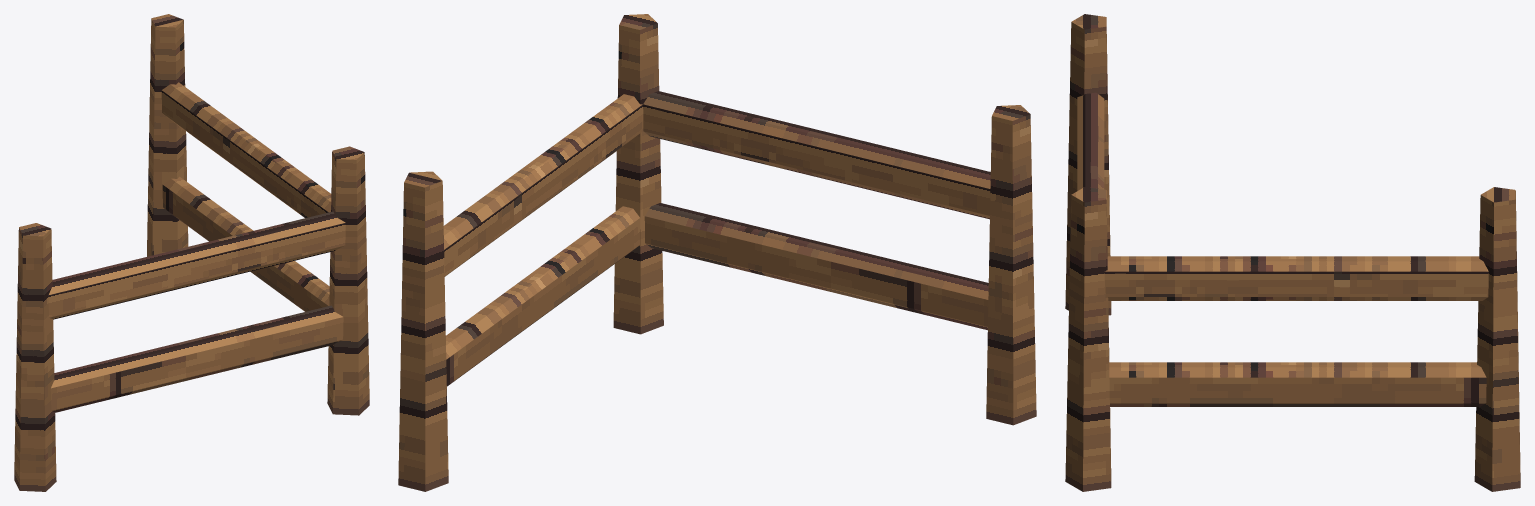
Rendered from enfeite_cerca_canto.fbx.
3 renders of one model, left to right at view 1: azimuth 30°, elevation 25°; view 2: azimuth 150°, elevation 25°; view 3: azimuth 270°, elevation 25°, orthographic. The views are drawn at different scales.
Parts seen in each view (by area): view 1: bosque_enfeite_cerca_canto; view 2: bosque_enfeite_cerca_canto; view 3: bosque_enfeite_cerca_canto.
Boxes of the visible parts, <box> form: bosque_enfeite_cerca_canto: <box>14,14,369,491</box>; bosque_enfeite_cerca_canto: <box>398,14,1036,491</box>; bosque_enfeite_cerca_canto: <box>1065,14,1520,491</box>.
Bounding box in the file's own units: 93.89 × 65 × 93.41.
1 material, 1 textured.
